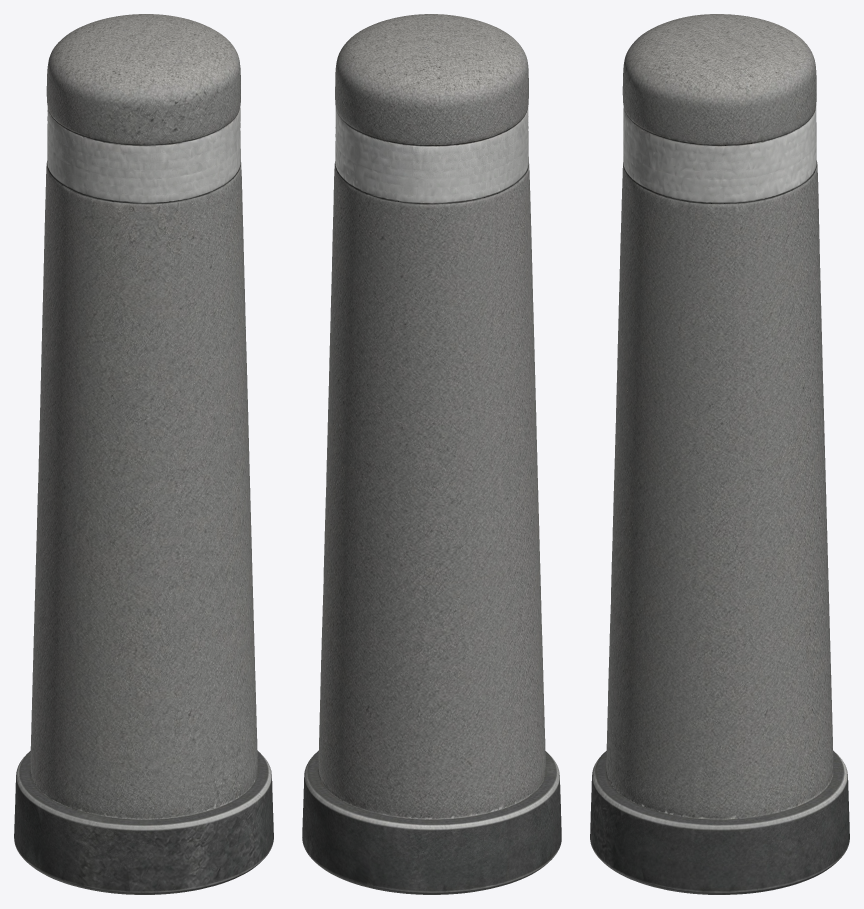
The model's file is bollard2.glb.
3 views of the same model, side by side, from view 1: azimuth 30°, elevation 25°; view 2: azimuth 150°, elevation 25°; view 3: azimuth 270°, elevation 25° (orthographic).
Parts seen in each view (by area): view 1: mesh_node; view 2: mesh_node; view 3: mesh_node.
Part boxes in pixels (<box>): mesh_node: <box>14,14,273,894</box>; mesh_node: <box>302,14,561,894</box>; mesh_node: <box>590,14,849,894</box>.
Size of the model in its own units: 0.5573 by 1.9 by 0.5568.
1 material, 1 textured.
